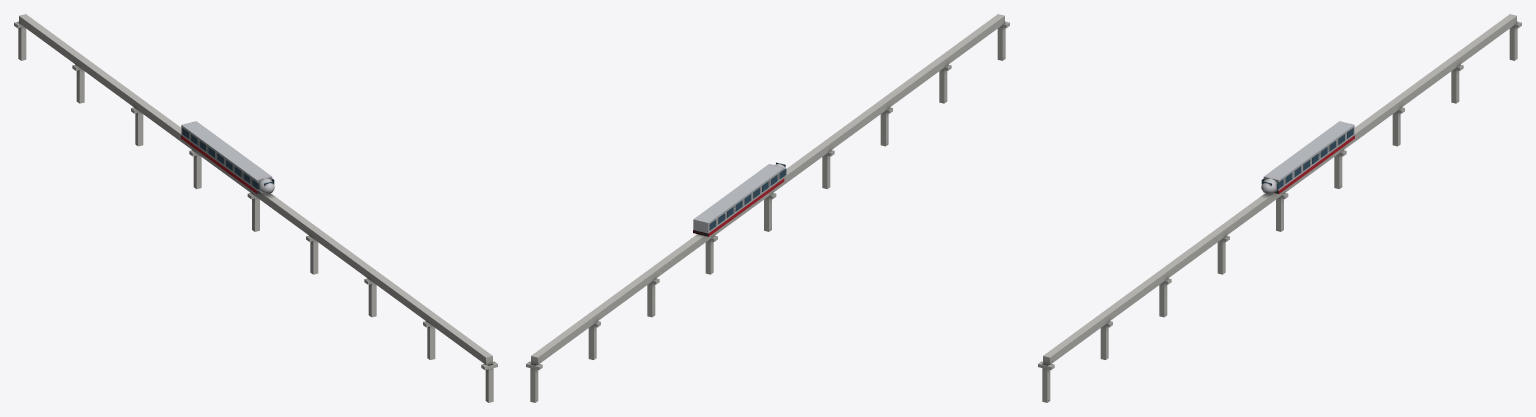
Rendered from monorail.glb.
The picture shows the model from 3 angles, left to right: view 1: azimuth 30°, elevation 25°; view 2: azimuth 150°, elevation 25°; view 3: azimuth 330°, elevation 25°; orthographic projection.
Visible parts, largest first — view 1: monorail; view 2: monorail; view 3: monorail.
Boxes of the visible parts, x1,y1,x2,y2 form: monorail: (14,14,497,402); monorail: (526,14,1009,402); monorail: (1038,14,1521,402).
Bounding box in the file's own units: 3.09 × 11.05 × 161.
1 material, 1 textured.
